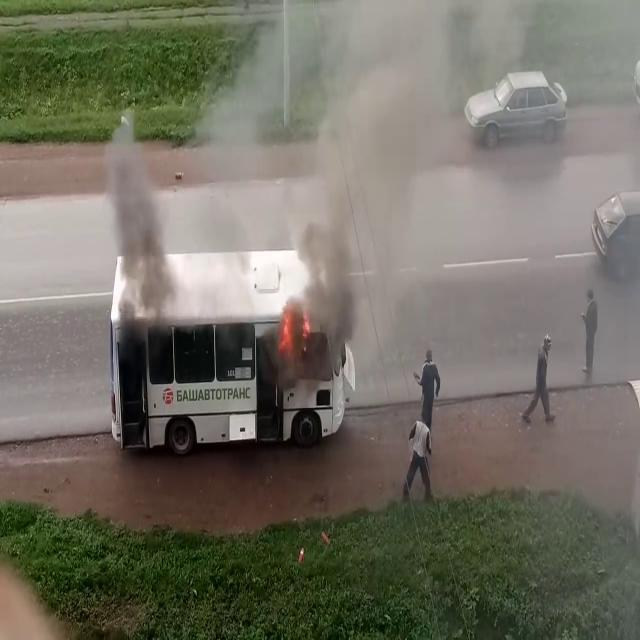Smoke: (190, 0, 638, 355), (97, 108, 193, 334)
